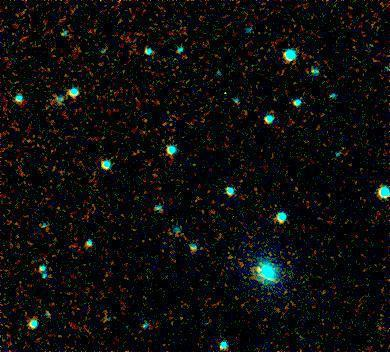star: (273, 246, 303, 276)
